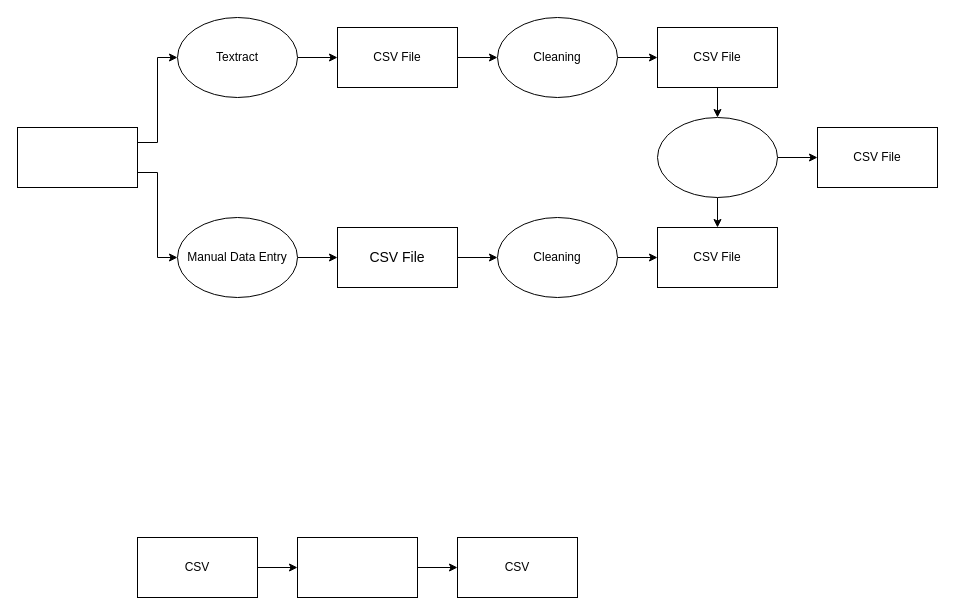
Image size: 955x615. Some labels were removed from this diagram. Each missing label, with the box of its shape:
Compare: (656, 116, 778, 198)
In-Memory Data Frame: (296, 536, 418, 598)
PDF File: (16, 126, 138, 188)
